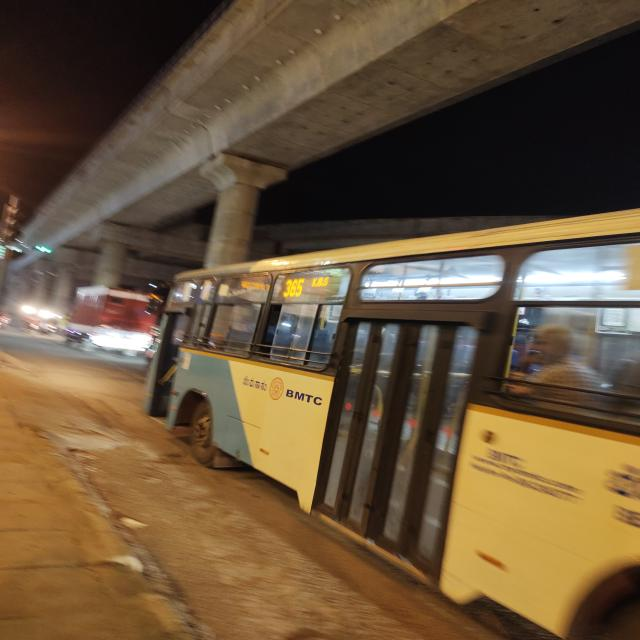bus: (142, 211, 640, 577)
display: (273, 273, 341, 302)
dnumber: (282, 278, 312, 304)
